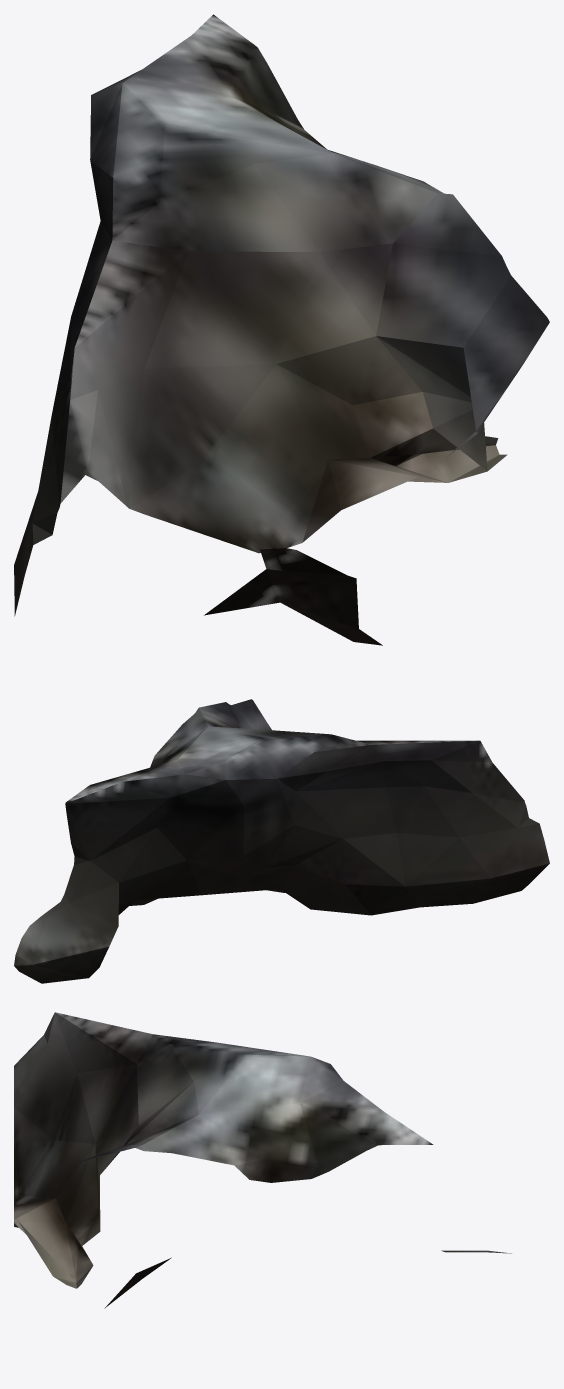
The picture shows the model from 3 angles, top to bottom: view 1: azimuth 30°, elevation 25°; view 2: azimuth 150°, elevation 25°; view 3: azimuth 270°, elevation 25°; orthographic projection. The views are drawn at different scales.
Size of the model in its own units: 0.1838 by 0.1371 by 0.2557.
1 material, 1 textured.
